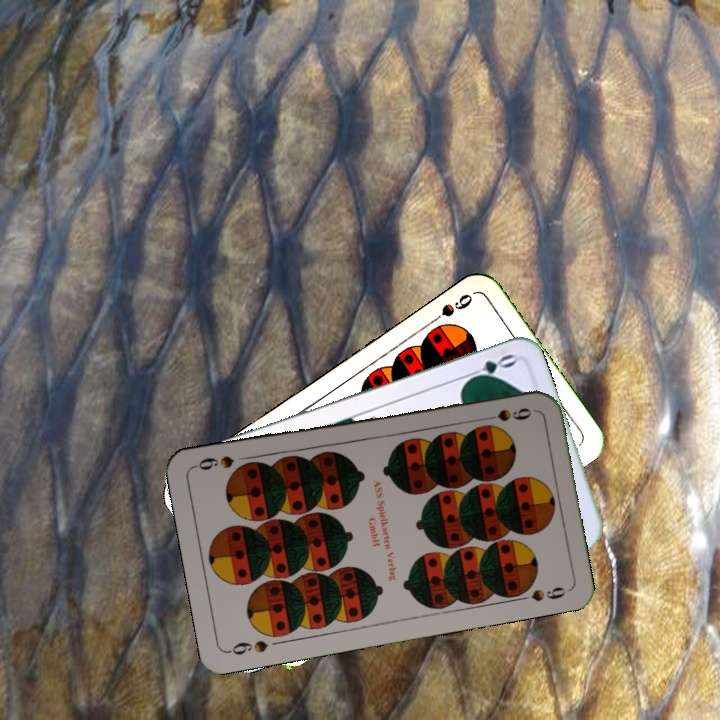GO: (460, 349, 519, 385)
S9: (424, 289, 476, 329), (476, 403, 534, 424), (224, 636, 271, 658)
